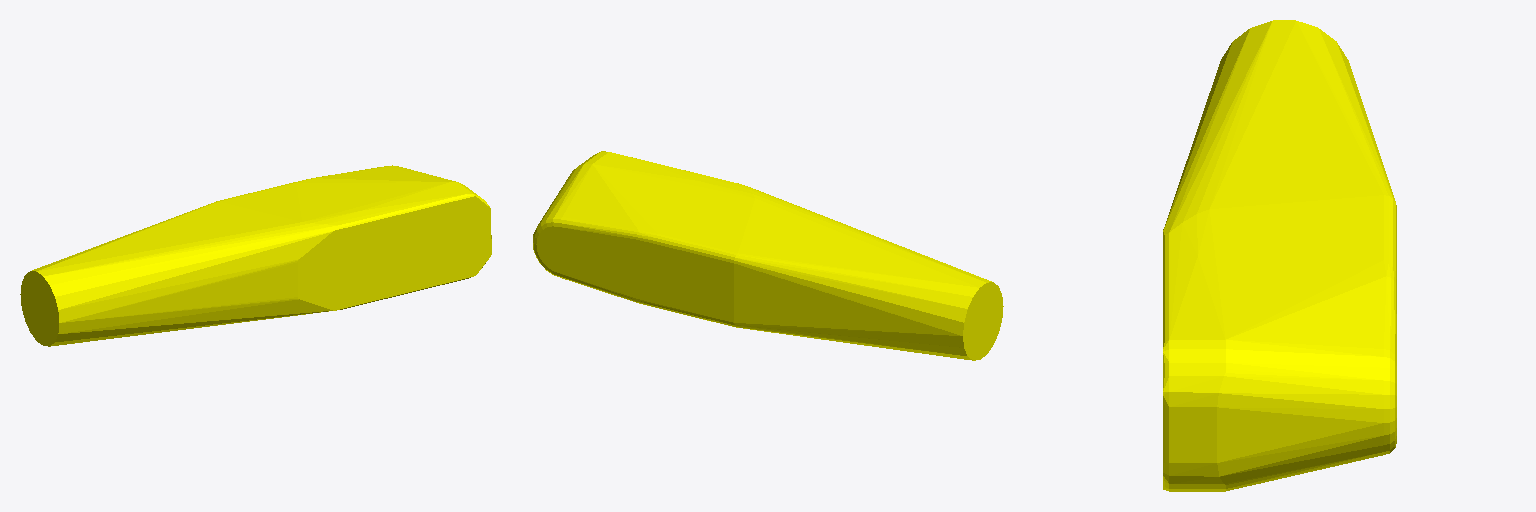
robot.urdf — M16iB20:
<?xml version="1.0" ?>
<!-- =================================================================================== -->
<!-- |    This document was autogenerated by xacro from M16iB20.xacro                  | -->
<!-- |    EDITING THIS FILE BY HAND IS NOT RECOMMENDED                                 | -->
<!-- =================================================================================== -->
<robot name="M16iB20" xmlns:xacro="http://ros.org/wiki/xacro">
  <link name="base_link">
    <inertial>
      <origin rpy="0 0 0" xyz="0 9.68920591007408E-05 0.538248432765216"/>
      <mass value="48654.354928172"/>
      <inertia ixx="51563.7946245021" ixy="0.552841467322453" ixz="-212.267889356987" iyy="49495.9076886951" iyz="1.80688027777408" izz="54368.3241585813"/>
    </inertial>
    <visual>
      <origin rpy="0 0 0" xyz="0 0 0"/>
      <geometry>
        <mesh filename="package://fanuc_config/meshes/m_16iB20/visual/base_link.STL"/>
      </geometry>
      <material name="">
        <color rgba="1 1 0 1"/>
      </material>
    </visual>
    <collision>
      <origin rpy="0 0 0" xyz="0 0 0"/>
      <geometry>
        <mesh filename="package://fanuc_config/meshes/m_16iB20/collision/base_link.STL"/>
      </geometry>
    </collision>
  </link>
  <link name="Link_1">
    <inertial>
      <origin rpy="0 0 0" xyz="0.0335399435995477 9.68920591007463E-05 0.293476071945811"/>
      <mass value="48654.354928172"/>
      <inertia ixx="51563.7946245021" ixy="0.552841467322453" ixz="-212.267889356987" iyy="49495.9076886951" iyz="1.80688027777408" izz="54368.3241585813"/>
    </inertial>
    <visual>
      <origin rpy="0 0 0" xyz="0 0 0"/>
      <geometry>
        <mesh filename="package://fanuc_config/meshes/m_16iB20/visual/Link_1.STL"/>
      </geometry>
      <material name="">
        <color rgba="1 1 0 1"/>
      </material>
    </visual>
    <collision>
      <origin rpy="0 0 0" xyz="0 0 0"/>
      <geometry>
        <mesh filename="package://fanuc_config/meshes/m_16iB20/collision/Link_1.STL"/>
      </geometry>
    </collision>
  </link>
  <link name="Link_2">
    <inertial>
      <origin rpy="0 0 0" xyz="-0.116459985096576 -0.187496105761522 0.0134762050463809"/>
      <mass value="48654.354928172"/>
      <inertia ixx="51563.7946245021" ixy="0.552841467322453" ixz="-212.267889356987" iyy="49495.9076886951" iyz="1.80688027777408" izz="54368.3241585813"/>
    </inertial>
    <visual>
      <origin rpy="0 0 0" xyz="0 0 0"/>
      <geometry>
        <mesh filename="package://fanuc_config/meshes/m_16iB20/visual/Link_2.STL"/>
      </geometry>
      <material name="">
        <color rgba="1 1 0 1"/>
      </material>
    </visual>
    <collision>
      <origin rpy="0 0 0" xyz="0 0 0"/>
      <geometry>
        <mesh filename="package://fanuc_config/meshes/m_16iB20/collision/Link_2.STL"/>
      </geometry>
    </collision>
  </link>
  <link name="Link_3">
    <inertial>
      <origin rpy="0 0 0" xyz="-0.116459985097232 0.000649393837860671 -0.7565234388513"/>
      <mass value="48654.354928172"/>
      <inertia ixx="51563.7946245021" ixy="0.552841467322453" ixz="-212.267889356987" iyy="49495.9076886951" iyz="1.80688027777408" izz="54368.3241585813"/>
    </inertial>
    <visual>
      <origin rpy="0 0 0" xyz="0 0 0"/>
      <geometry>
        <mesh filename="package://fanuc_config/meshes/m_16iB20/visual/Link_3.STL"/>
      </geometry>
      <material name="">
        <color rgba="1 1 0 1"/>
      </material>
    </visual>
    <collision>
      <origin rpy="0 0 0" xyz="0 0 0"/>
      <geometry>
        <mesh filename="package://fanuc_config/meshes/m_16iB20/collision/Link_3.STL"/>
      </geometry>
    </collision>
  </link>
  <link name="Link_4">
    <inertial>
      <origin rpy="0 0 0" xyz="-0.301157421773673 0.000649393837861561 -0.856523437562654"/>
      <mass value="48654.354928172"/>
      <inertia ixx="51563.7946245021" ixy="0.552841467322453" ixz="-212.267889356987" iyy="49495.9076886951" iyz="1.80688027777408" izz="54368.3241585813"/>
    </inertial>
    <visual>
      <origin rpy="0 0 0" xyz="0 0 0"/>
      <geometry>
        <mesh filename="package://fanuc_config/meshes/m_16iB20/visual/Link_4.STL"/>
      </geometry>
      <material name="">
        <color rgba="1 1 0 1"/>
      </material>
    </visual>
    <collision>
      <origin rpy="0 0 0" xyz="0 0 0"/>
      <geometry>
        <mesh filename="package://fanuc_config/meshes/m_16iB20/collision/Link_4.STL"/>
      </geometry>
    </collision>
  </link>
  <link name="Link_5">
    <inertial>
      <origin rpy="0 0 0" xyz="-0.856906936709003 0.000456131051686355 -0.857257705801685"/>
      <mass value="48654.354928172"/>
      <inertia ixx="51563.7946245021" ixy="0.552841467322453" ixz="-212.267889356987" iyy="49495.9076886951" iyz="1.80688027777408" izz="54368.3241585813"/>
    </inertial>
    <visual>
      <origin rpy="0 0 0" xyz="0 0 0"/>
      <geometry>
        <mesh filename="package://fanuc_config/meshes/m_16iB20/visual/Link_5.STL"/>
      </geometry>
      <material name="">
        <color rgba="1 1 0 1"/>
      </material>
    </visual>
    <collision>
      <origin rpy="0 0 0" xyz="0 0 0"/>
      <geometry>
        <mesh filename="package://fanuc_config/meshes/m_16iB20/collision/Link_5.STL"/>
      </geometry>
    </collision>
  </link>
  <link name="Link_6">
    <inertial>
      <origin rpy="0 0 0" xyz="-0.957051849301239 0.000456131051686355 -0.857390019418947"/>
      <mass value="48654.354928172"/>
      <inertia ixx="51563.7946245021" ixy="0.552841467322453" ixz="-212.267889356987" iyy="49495.9076886951" iyz="1.80688027777408" izz="54368.3241585813"/>
    </inertial>
    <visual>
      <origin rpy="0 0 0" xyz="0 0 0"/>
      <geometry>
        <mesh filename="package://fanuc_config/meshes/m_16iB20/visual/Link_6.STL"/>
      </geometry>
      <material name="">
        <color rgba="1 1 0 1"/>
      </material>
    </visual>
    <collision>
      <origin rpy="0 0 0" xyz="0 0 0"/>
      <geometry>
        <mesh filename="package://fanuc_config/meshes/m_16iB20/collision/Link_6.STL"/>
      </geometry>
    </collision>
  </link>
  <link name="tool0"/>
  <joint name="Joint_1" type="revolute">
    <origin rpy="0 0 0" xyz="0 0 0.24477"/>
    <parent link="base_link"/>
    <child link="Link_1"/>
    <axis xyz="0 0 1"/>
    <limit effort="0" lower="-2.967" upper="2.967" velocity="0"/>
    <calibration falling="0" rising="0"/>
    <dynamics damping="0" friction="0"/>
    <!--safety_controller
		      soft_lower_limit="0"
		      soft_upper_limit="0"
		      k_position="0"
		      k_velocity="0" /-->
  </joint>
  <joint name="Joint_2" type="revolute">
    <origin rpy="0 0 0" xyz="0.15 0.18759 0.28"/>
    <parent link="Link_1"/>
    <child link="Link_2"/>
    <axis xyz="0 -1 0"/>
    <limit effort="0" lower="-1.5708" upper="1.9" velocity="0"/>
    <calibration falling="0" rising="0"/>
    <dynamics damping="0" friction="0"/>
    <!--safety_controller
		      soft_lower_limit="0"
		      soft_upper_limit="0"
		      k_position="0"
		      k_velocity="0" /-->
  </joint>
  <joint name="Joint_3" type="revolute">
    <origin rpy="0 0 0" xyz="0 -0.18815 0.77"/>
    <parent link="Link_2"/>
    <child link="Link_3"/>
    <axis xyz="0 1 0"/>
    <limit effort="0" lower="-4.21" upper="1.45" velocity="0"/>
    <calibration falling="0" rising="0"/>
    <dynamics damping="0" friction="0"/>
    <!--safety_controller
		      soft_lower_limit="0"
		      soft_upper_limit="0"
		      k_position="0"
		      k_velocity="0" /-->
  </joint>
  <joint name="Joint_4" type="revolute">
    <origin rpy="0 0 0" xyz="0.1847 0 0.1"/>
    <parent link="Link_3"/>
    <child link="Link_4"/>
    <axis xyz="-1 0 -0.0013212"/>
    <limit effort="0" lower="-3.4907" upper="3.4907" velocity="0"/>
    <calibration falling="0" rising="0"/>
    <dynamics damping="0" friction="0"/>
    <!--safety_controller
		      soft_lower_limit="0"
		      soft_upper_limit="0"
		      k_position="0"
		      k_velocity="0" /-->
  </joint>
  <joint name="Joint_5" type="revolute">
    <origin rpy="0 0 0" xyz="0.55575 0.00019326 0.00073427"/>
    <parent link="Link_4"/>
    <child link="Link_5"/>
    <axis xyz="0 1 0"/>
    <limit effort="0" lower="-2.4435" upper="2.4435" velocity="0"/>
    <calibration falling="0" rising="0"/>
    <dynamics damping="0" friction="0"/>
    <!--safety_controller
		      soft_lower_limit="0"
		      soft_upper_limit="0"
		      k_position="0"
		      k_velocity="0" /-->
  </joint>
  <joint name="Joint_6" type="revolute">
    <origin rpy="0 0 0" xyz="0.10014 0 0.00013231"/>
    <parent link="Link_5"/>
    <child link="Link_6"/>
    <axis xyz="-1 0 -0.0013212"/>
    <limit effort="0" lower="-7.85398" upper="7.85398" velocity="0"/>
    <calibration falling="0" rising="0"/>
    <dynamics damping="0" friction="0"/>
    <!--safety_controller
		      soft_lower_limit="0"
		      soft_upper_limit="0"
		      k_position="0"
		      k_velocity="0" /-->
  </joint>
  <joint name="Joint_6-tool0" type="fixed">
    <parent link="Link_6"/>
    <child link="tool0"/>
    <origin rpy="0 0 0" xyz="0 0 0"/>
  </joint>
</robot>

--- Render facts (derived) ---
Views: 3 orthographic renders of the robot side by side, from view 1: azimuth 30°, elevation 25°; view 2: azimuth 150°, elevation 25°; view 3: azimuth 270°, elevation 25°.
Model M16iB20 with 8 links and 7 joints (6 revolute, 1 fixed), rooted at base_link, posed every joint at zero.
Links seen in each view (by area): view 1: Link_4; view 2: Link_4; view 3: Link_4.
Boxes of the visible links, <box> form: Link_4: <box>20,165,491,346</box>; Link_4: <box>533,151,1003,360</box>; Link_4: <box>1163,20,1396,491</box>.
Size in the robot's own frame: 0.6178 by 0.172 by 0.1232 metres.
Meshes: 7 distinct files referenced, 1 mesh visuals loaded (1 binary STL); not drawn: 6 (reference not matched to a file when rendering).